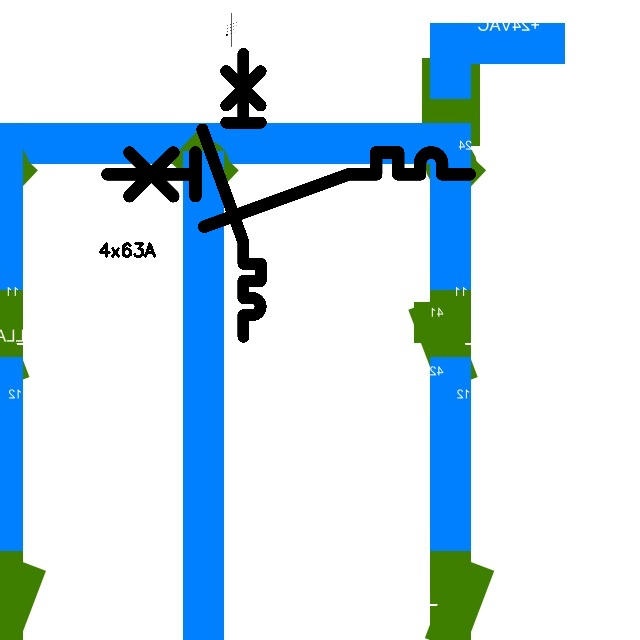interruptor_termomagnetico: (98, 143, 479, 236), (195, 46, 268, 344)
